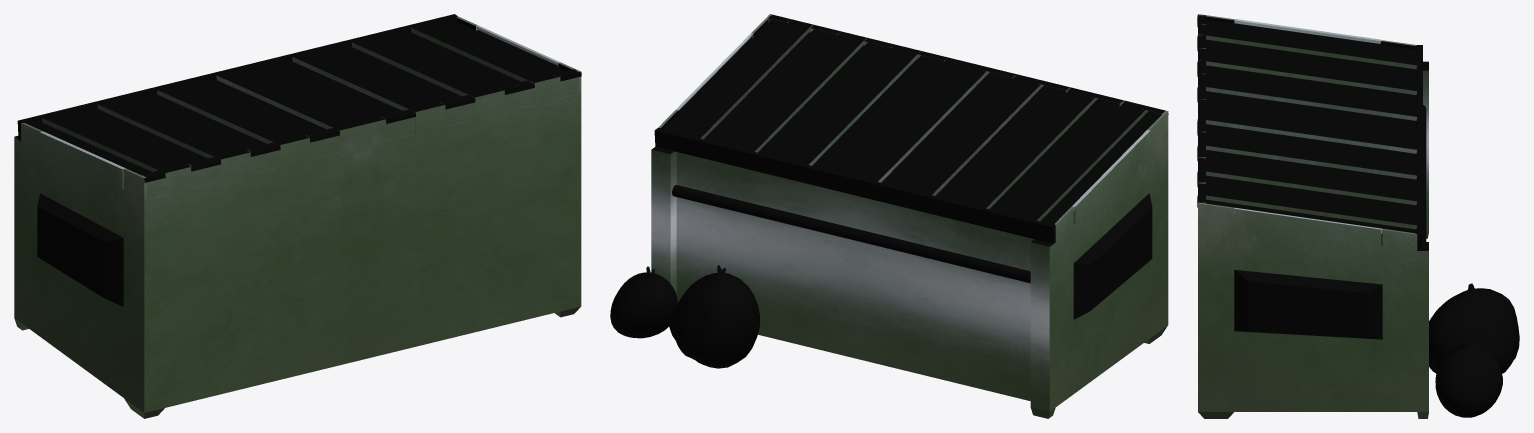
File: Trashconjunto 1.fbx
The picture shows the model from 3 angles, left to right: view 1: azimuth 30°, elevation 25°; view 2: azimuth 150°, elevation 25°; view 3: azimuth 270°, elevation 25°; orthographic projection. The views are drawn at different scales.
Visible parts, largest first — view 1: trashcontainer; view 2: trashcontainer; view 3: trashcontainer.
Part boxes in pixels (left/top/right/bottom): trashcontainer: left=14, top=14, right=581, bottom=418; trashcontainer: left=610, top=14, right=1168, bottom=418; trashcontainer: left=1197, top=14, right=1519, bottom=418.
Size of the model in its own units: 350 by 176 by 235.
